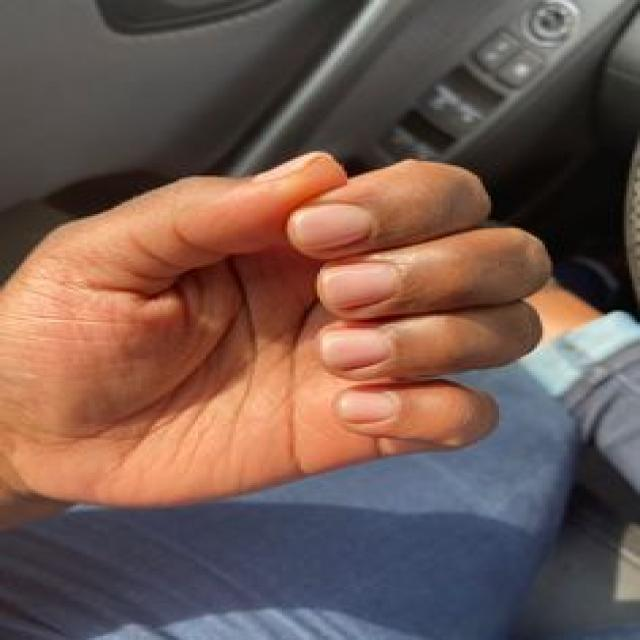Fingernail: (324, 262, 398, 311), (297, 204, 372, 251), (322, 328, 390, 370), (341, 390, 394, 423)
